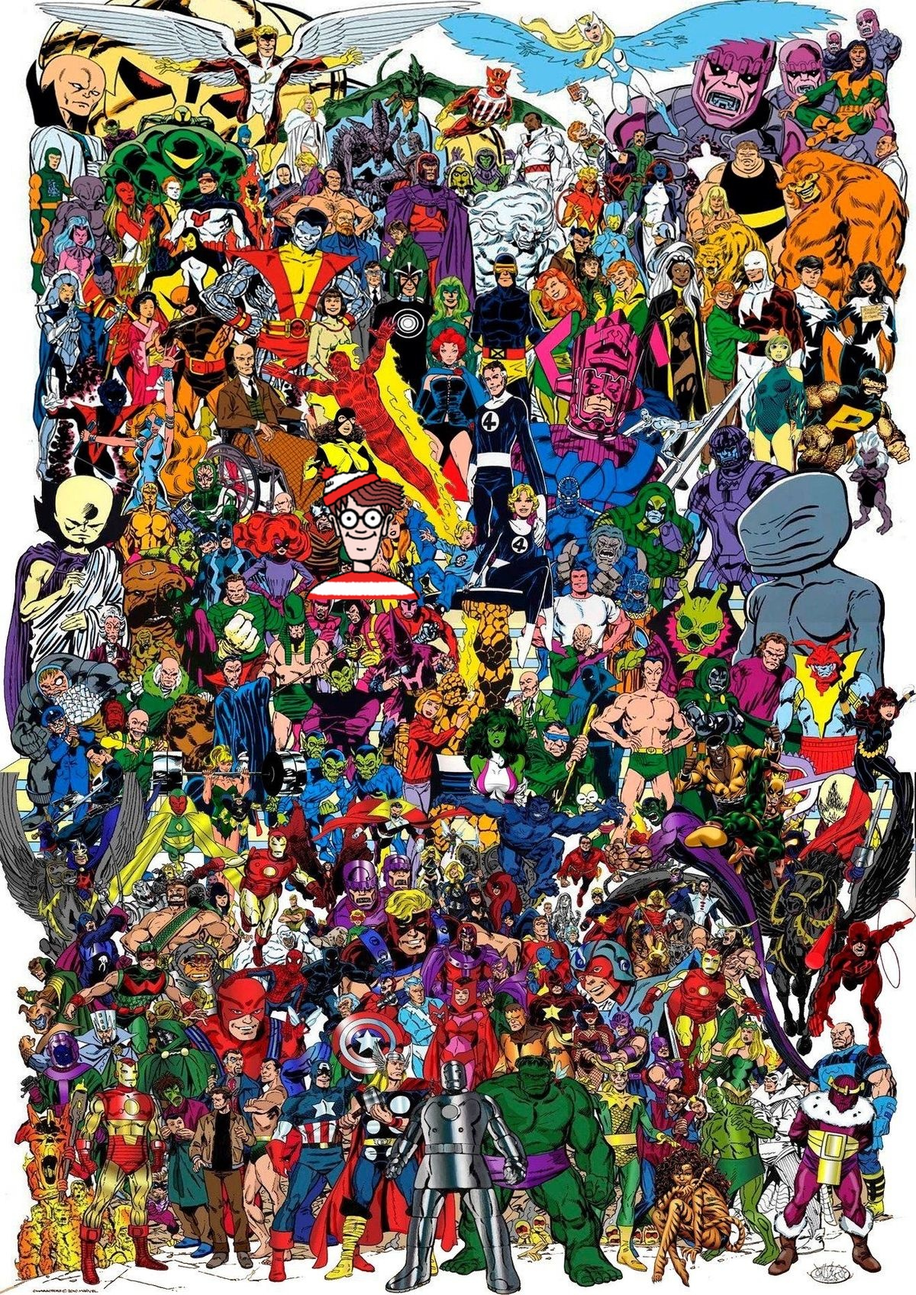waldo: (303, 463, 421, 599)
